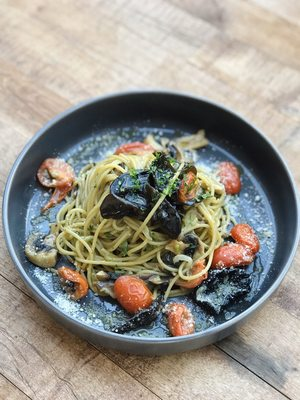sushi: (4, 99, 296, 361)
